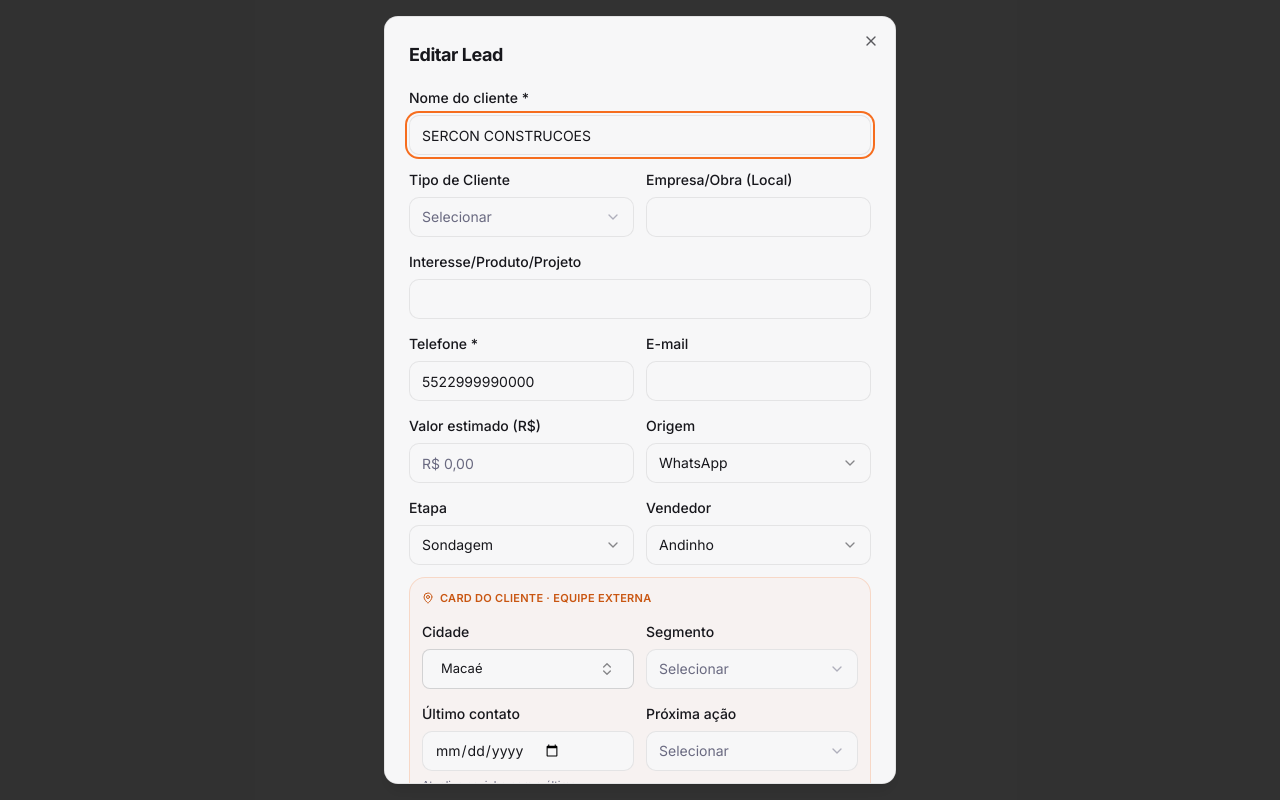
Test case: EditLeadForm — external team card fields › requires a date when a next action is chosen, then saves the fields
Later steps or results of the test are not shown.
Check: the text "Card do cliente · equipe externa" is shown, box [422,591,652,605]
Check: the dropdown named "Cidade" reads "Macaé", box [422,648,634,688]
Press ArrowDown in the dropdown named "Segmento", box [646,648,858,688]
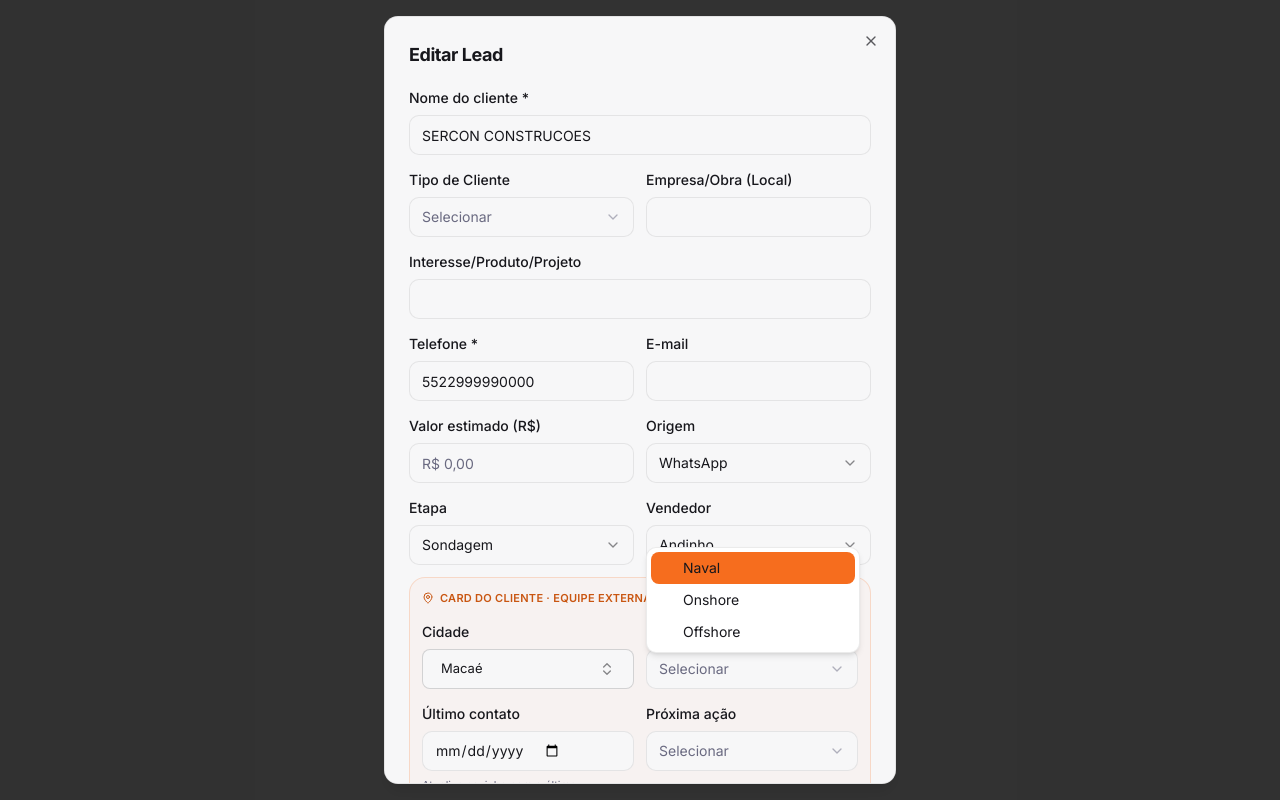
Click the option "Offshore" at [712, 632], box [683,623,740,640]
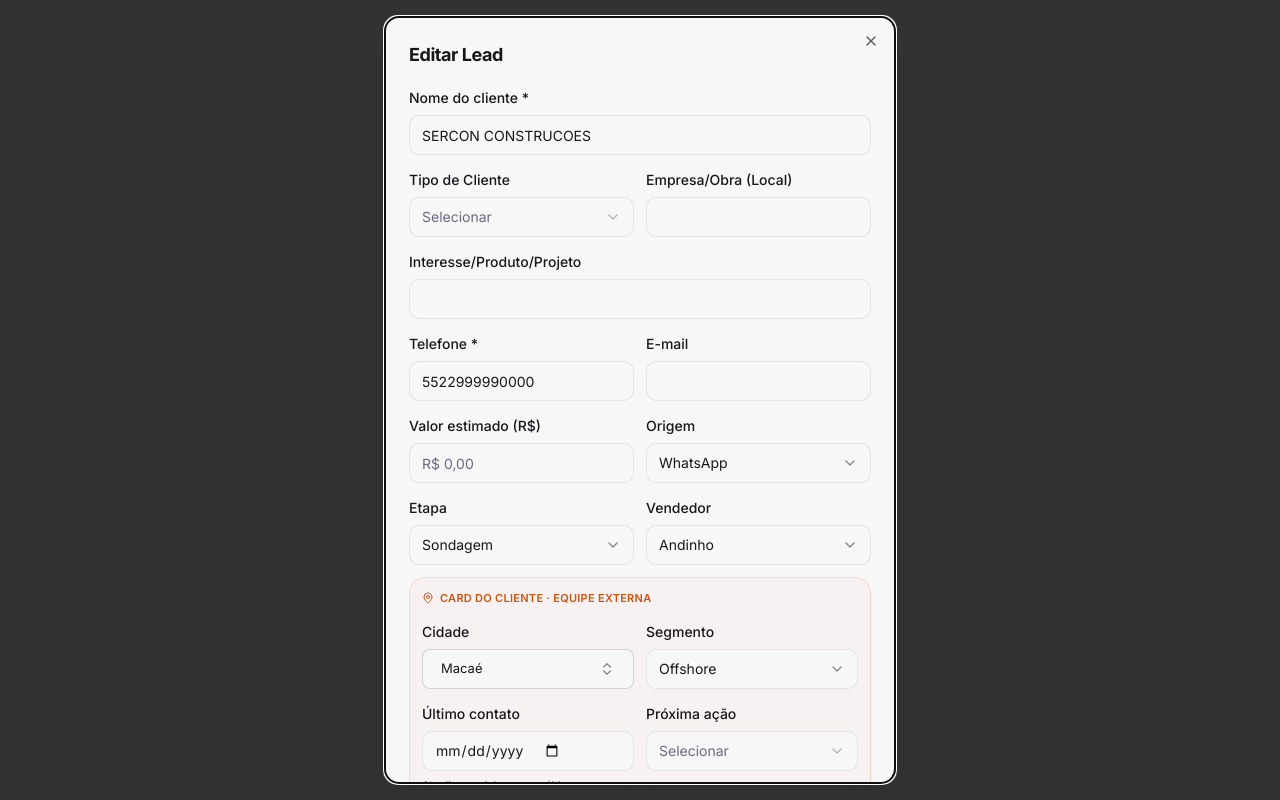
Press ArrowDown in the dropdown named "Próxima ação", box [646,730,858,770]
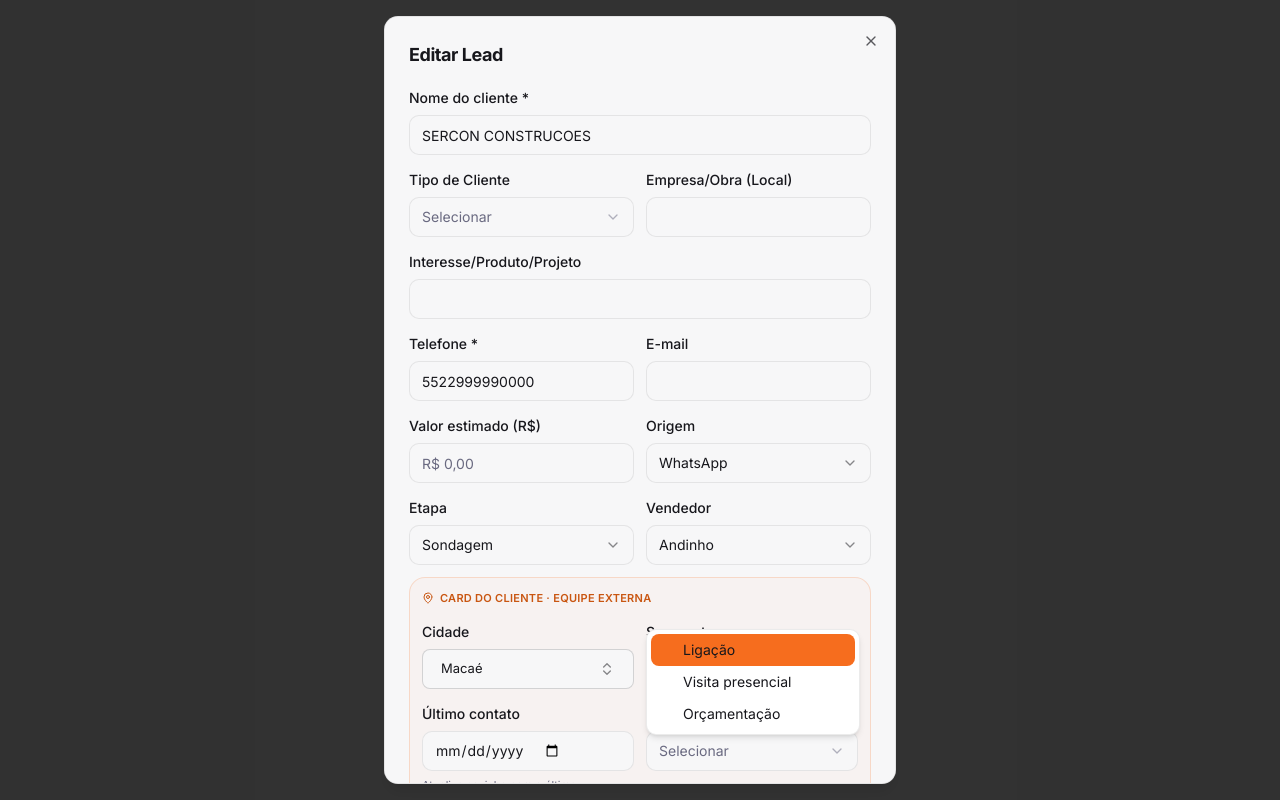
Click the option "Visita presencial" at [737, 682], box [683,673,792,690]
(page scrolled)
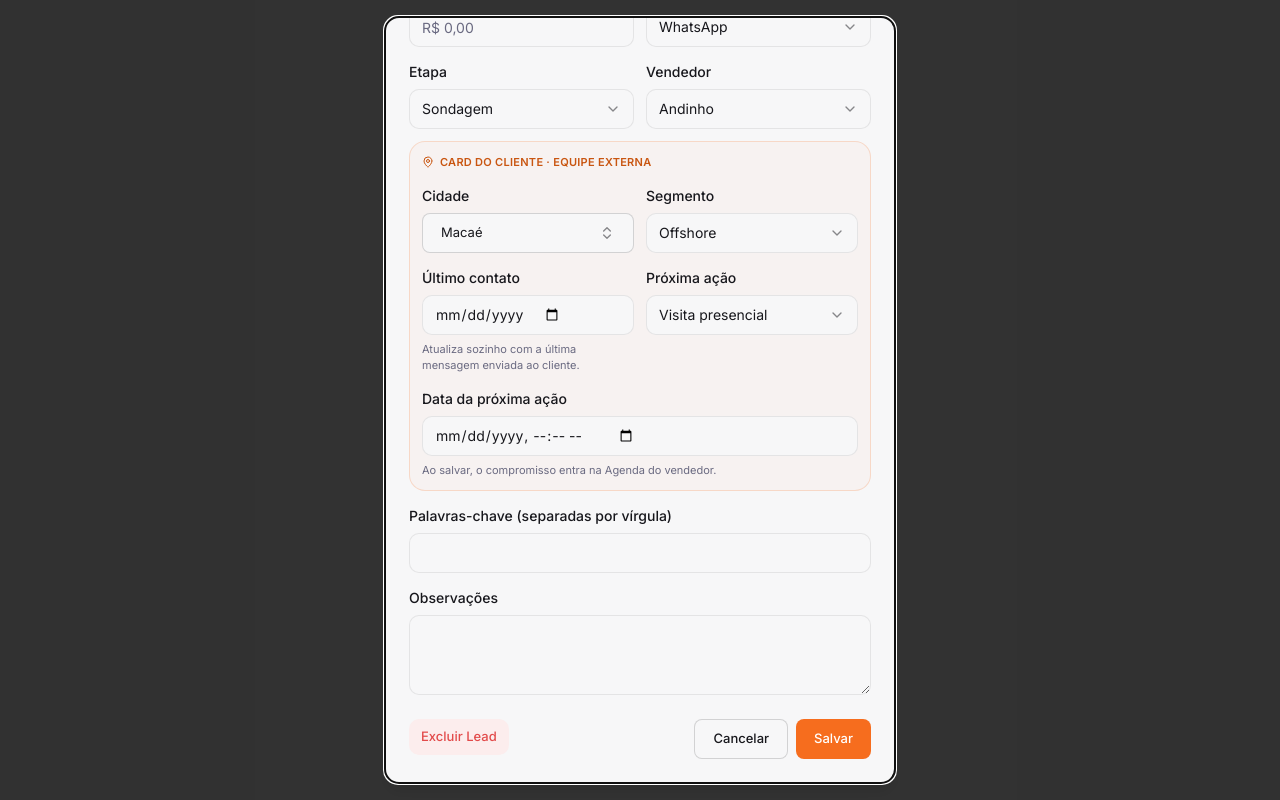
Click the button "Salvar" at [834, 739], box [796,719,871,759]
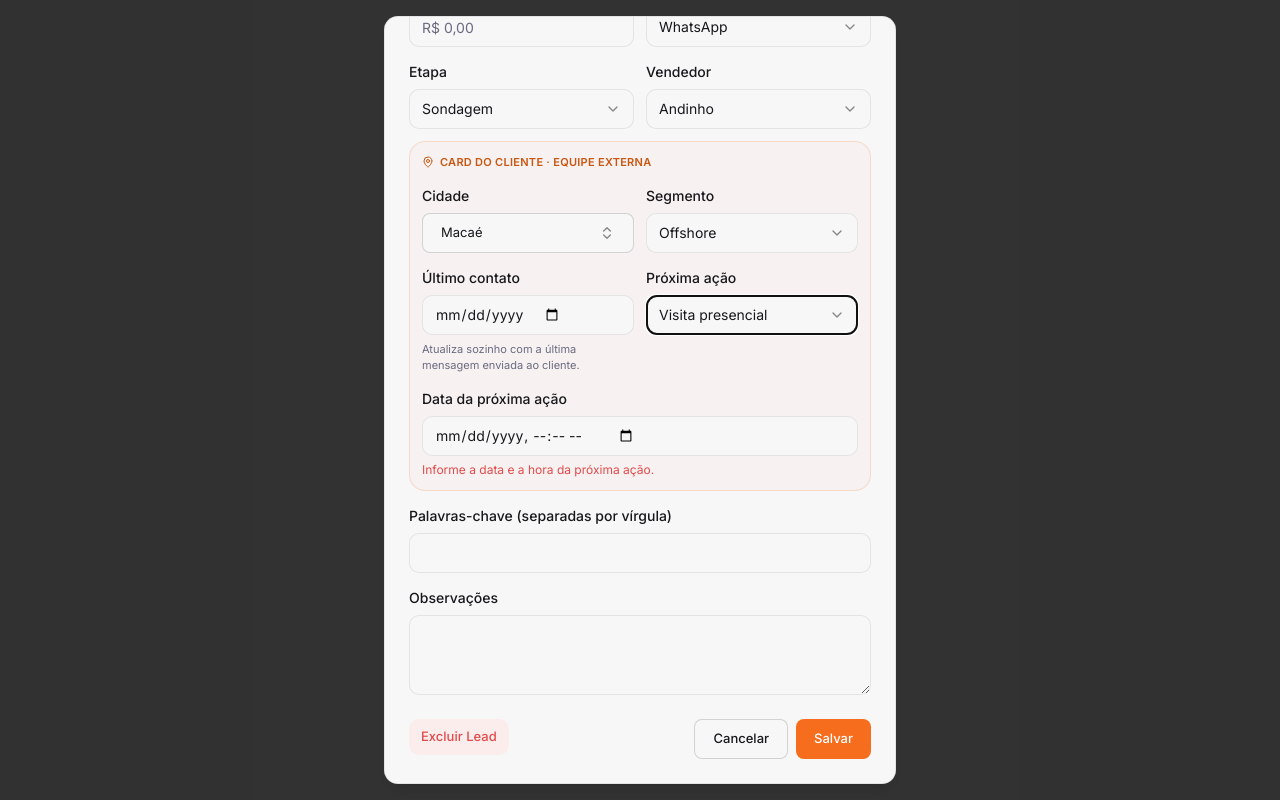
Check: the text "Informe a data e a hora da próxima ação." is shown, box [422,462,654,476]
